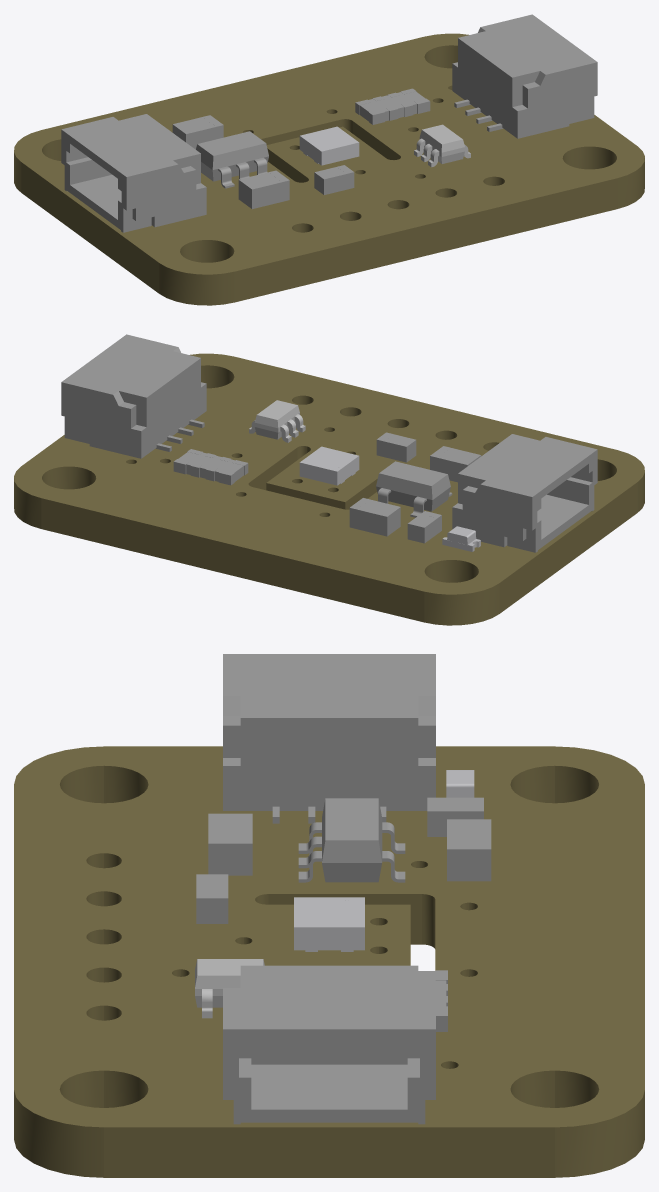
File: ada-4636.glb
3 renders of one model, top to bottom at view 1: azimuth 30°, elevation 25°; view 2: azimuth 150°, elevation 25°; view 3: azimuth 270°, elevation 25°, orthographic. The views are drawn at different scales.
Parts seen in each view (by area): view 1: 0.16666666666666666_0.16666666666666666_0.08333333333333333_, 0.3333333333333333_0.3333333333333333_0.3333333333333333_0, 0.5833333333333334_0.5833333333333334_0.5833333333333334_0.8, 0.5_0.5_0.5_0.85; view 2: 0.16666666666666666_0.16666666666666666_0.08333333333333333_, 0.3333333333333333_0.3333333333333333_0.3333333333333333_0, 0.5833333333333334_0.5833333333333334_0.5833333333333334_0.8, 0.5_0.5_0.5_0.85; view 3: 0.16666666666666666_0.16666666666666666_0.08333333333333333_, 0.3333333333333333_0.3333333333333333_0.3333333333333333_0, 0.5833333333333334_0.5833333333333334_0.5833333333333334_0.8, 0.5_0.5_0.5_0.85.
Part boxes in pixels (x1,y1,x2,y2): 0.16666666666666666_0.16666666666666666_0.08333333333333333_: [14, 33, 644, 305]; 0.3333333333333333_0.3333333333333333_0.3333333333333333_0: [61, 14, 597, 232]; 0.5833333333333334_0.5833333333333334_0.5833333333333334_0.8: [299, 126, 359, 165]; 0.5_0.5_0.5_0.85: [414, 124, 470, 167]; 0.16666666666666666_0.16666666666666666_0.08333333333333333_: [14, 353, 644, 625]; 0.3333333333333333_0.3333333333333333_0.3333333333333333_0: [61, 334, 597, 552]; 0.5833333333333334_0.5833333333333334_0.5833333333333334_0.8: [299, 446, 480, 551]; 0.5_0.5_0.5_0.85: [249, 400, 305, 442]; 0.16666666666666666_0.16666666666666666_0.08333333333333333_: [14, 746, 644, 1177]; 0.3333333333333333_0.3333333333333333_0.3333333333333333_0: [196, 654, 491, 1124]; 0.5833333333333334_0.5833333333333334_0.5833333333333334_0.8: [294, 770, 474, 951]; 0.5_0.5_0.5_0.85: [195, 959, 264, 1018].
Size of the model in its own units: 2.54 by 0.4529 by 1.78.
